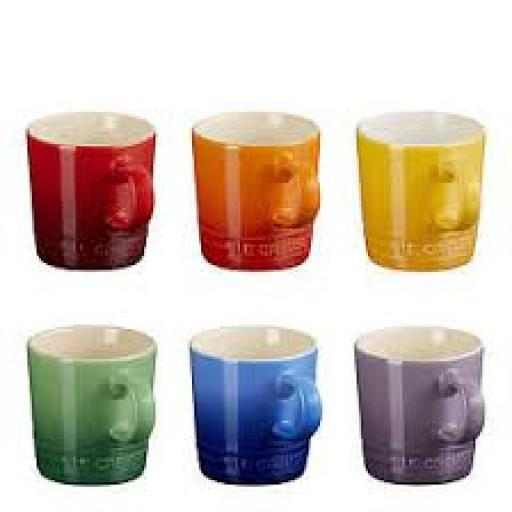red mug: (28, 112, 155, 269)
